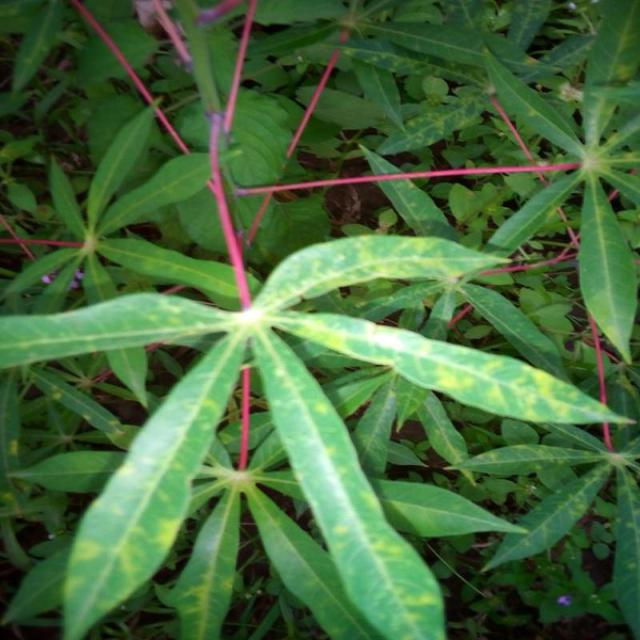cassava leaf: (2, 230, 634, 638), (62, 327, 247, 638)
